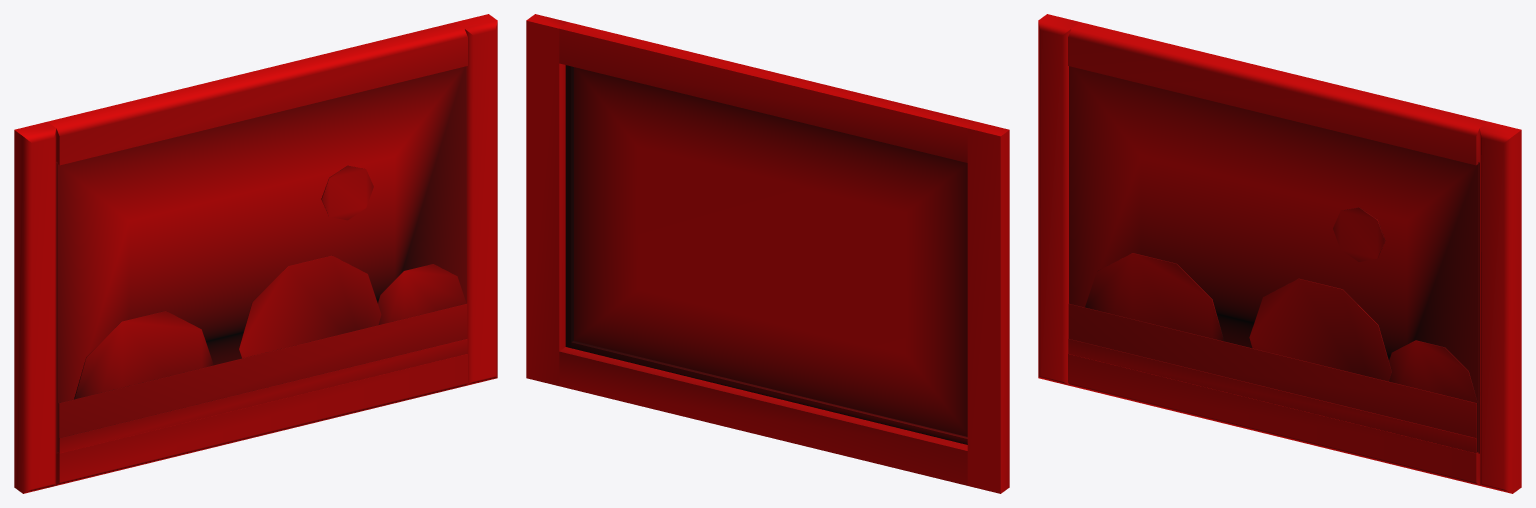
File: CI_Living_Frame_Landscape.glb
3 renders of one model, left to right at view 1: azimuth 30°, elevation 25°; view 2: azimuth 150°, elevation 25°; view 3: azimuth 330°, elevation 25°, orthographic.
Parts seen in each view (by area): view 1: CI_Living_Frame_Landscape; view 2: CI_Living_Frame_Landscape; view 3: CI_Living_Frame_Landscape.
Boxes of the visible parts, x1,y1,x2,y2 form: CI_Living_Frame_Landscape: (14,14,497,493); CI_Living_Frame_Landscape: (526,14,1009,493); CI_Living_Frame_Landscape: (1038,14,1521,493).
Size of the model in its own units: 1 by 0.72 by 0.045.
